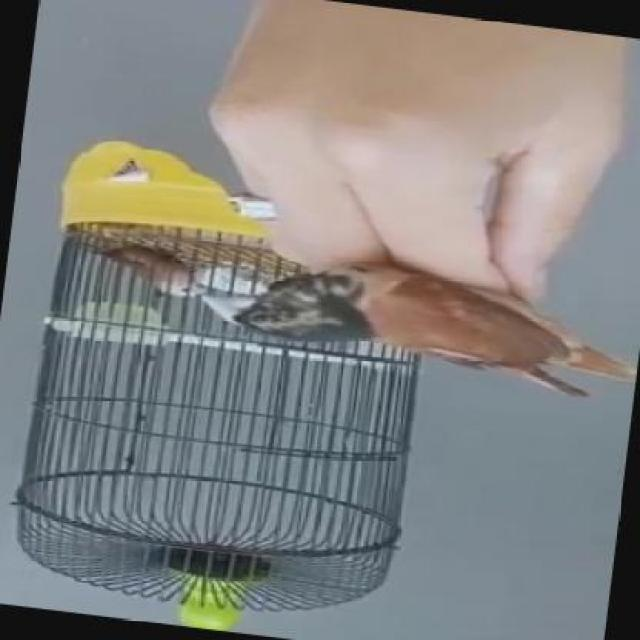Bird: (221, 257, 635, 365), (102, 246, 204, 302)
